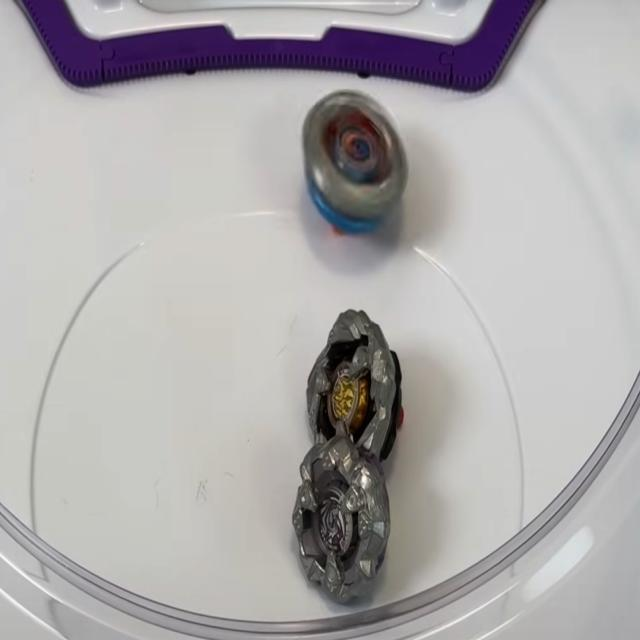Beyblade: (296, 82, 413, 244), (290, 433, 392, 598), (305, 309, 404, 462)
